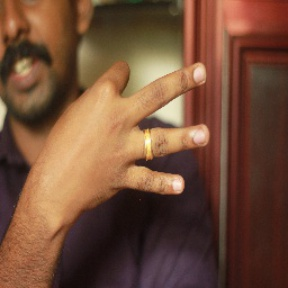K: (48, 60, 213, 208)
